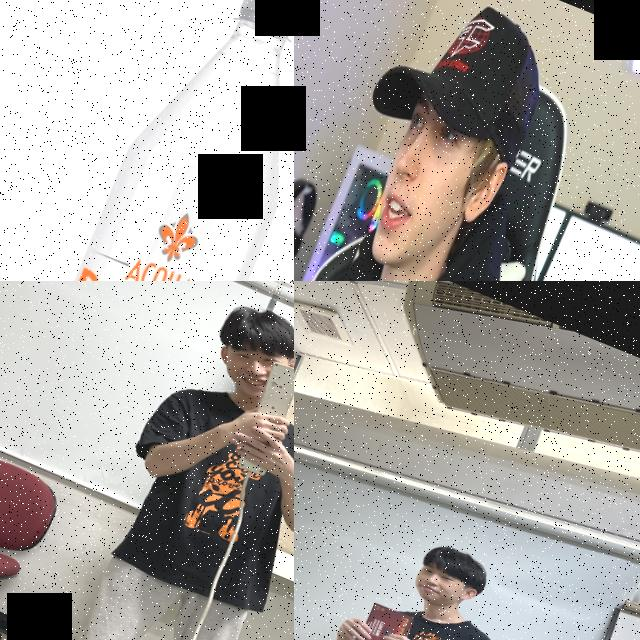bottle: (0, 0, 294, 281)
